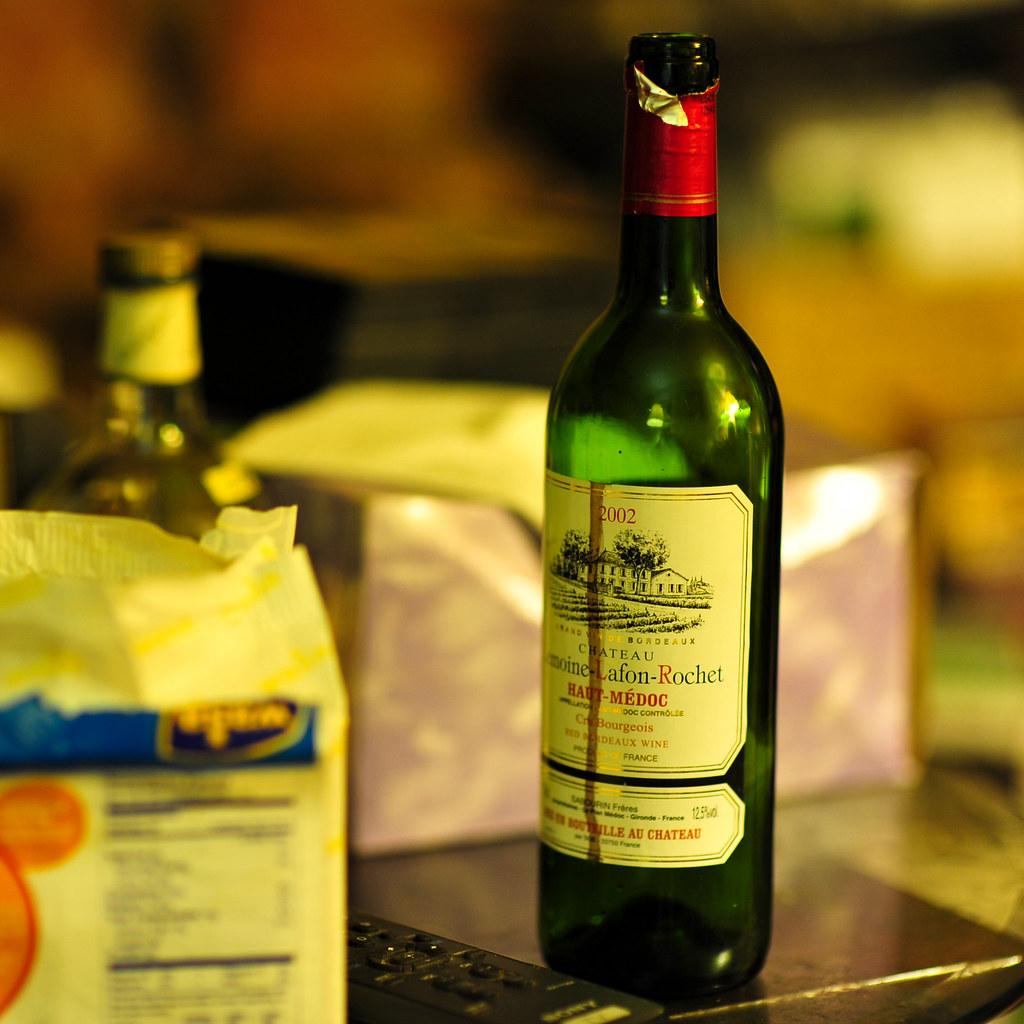bottle: (537, 31, 785, 1001), (26, 226, 266, 542)
